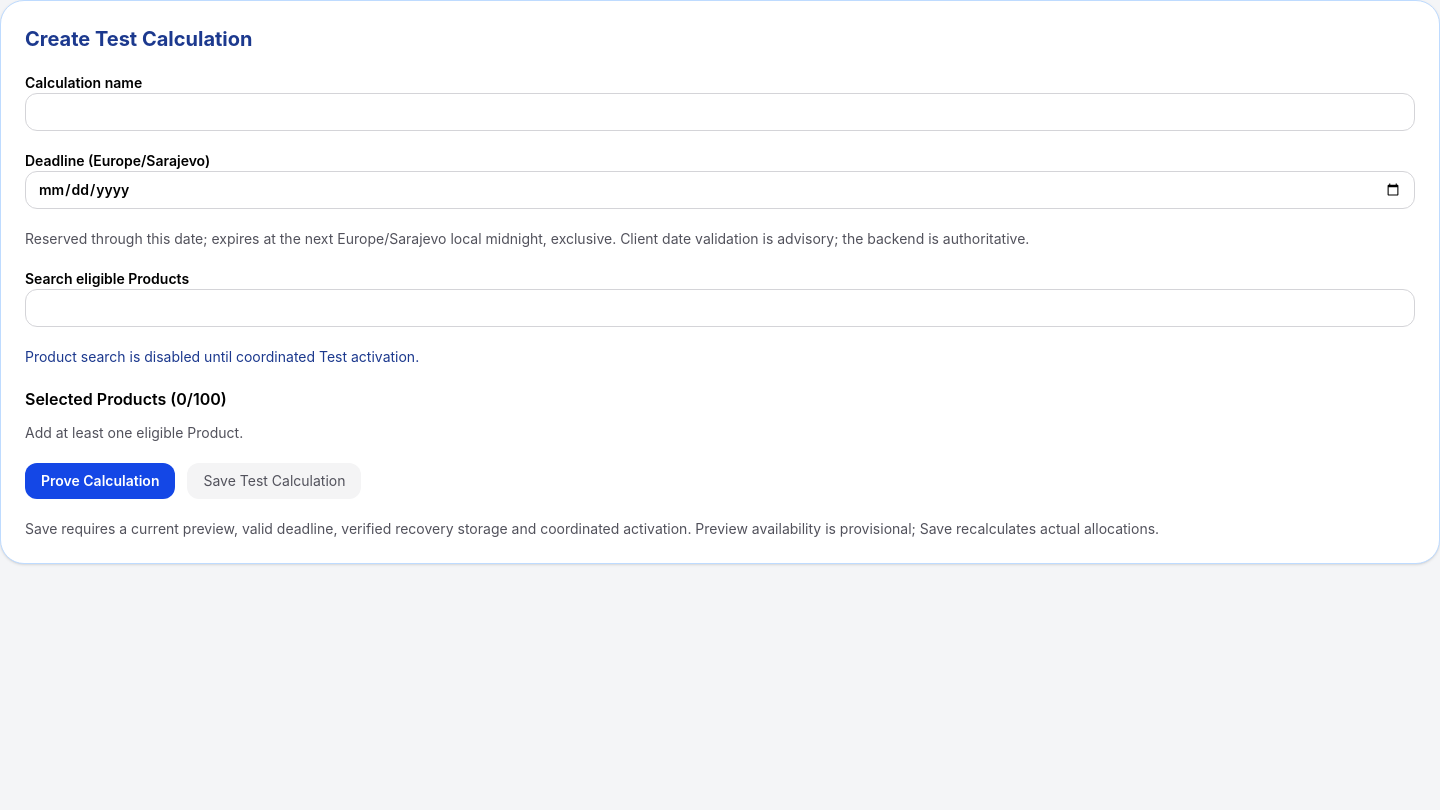
Test case: Test Calculation editor › validates required fields and never enables Save
Click the button "Prove Calculation" at [100, 481], box [25,463,176,499]
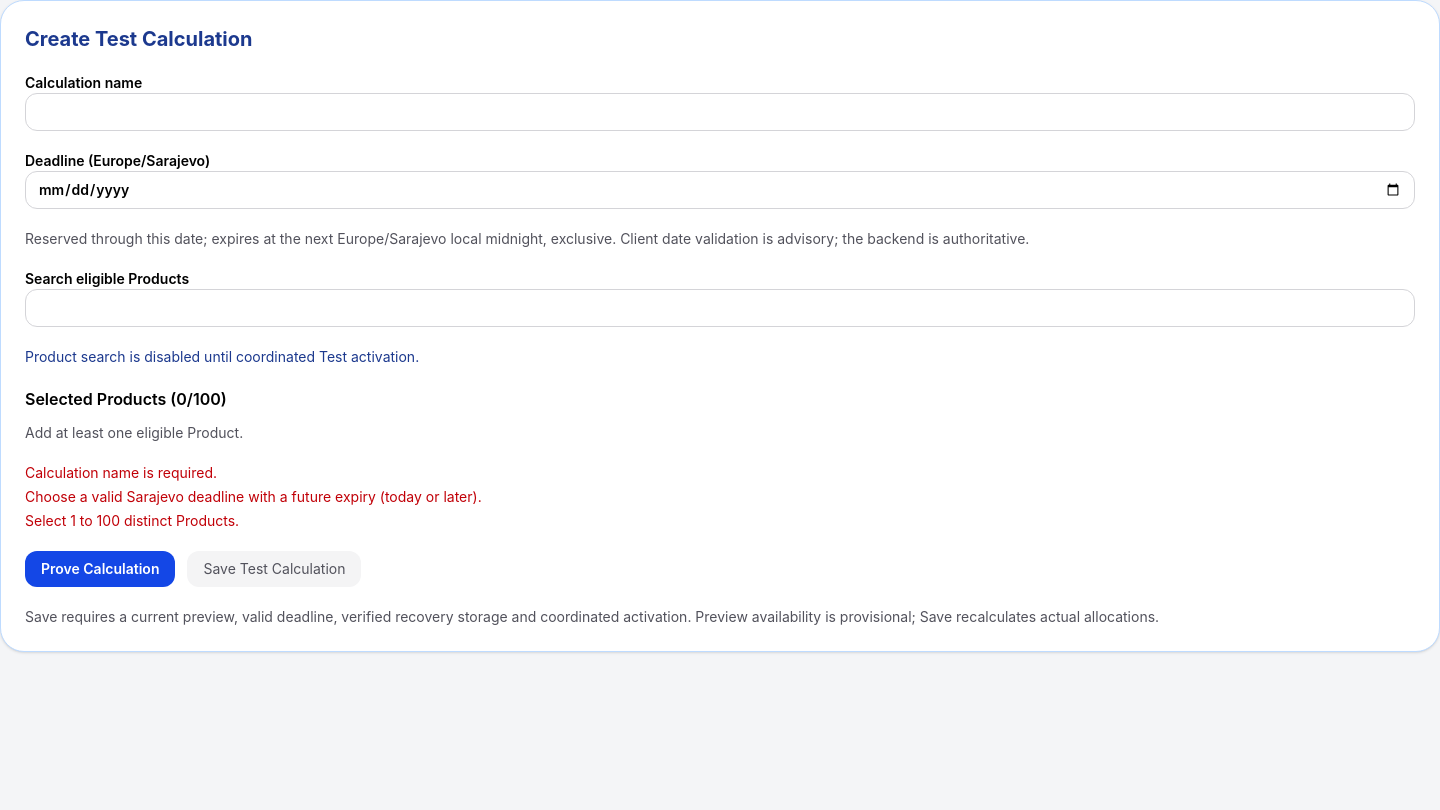
Now the message shows "Calculation name is required", box [25,464,217,481]
Now the message shows "valid Sarajevo deadline", box [25,488,482,505]
Now the message shows "Select 1 to 100", box [25,512,239,529]
